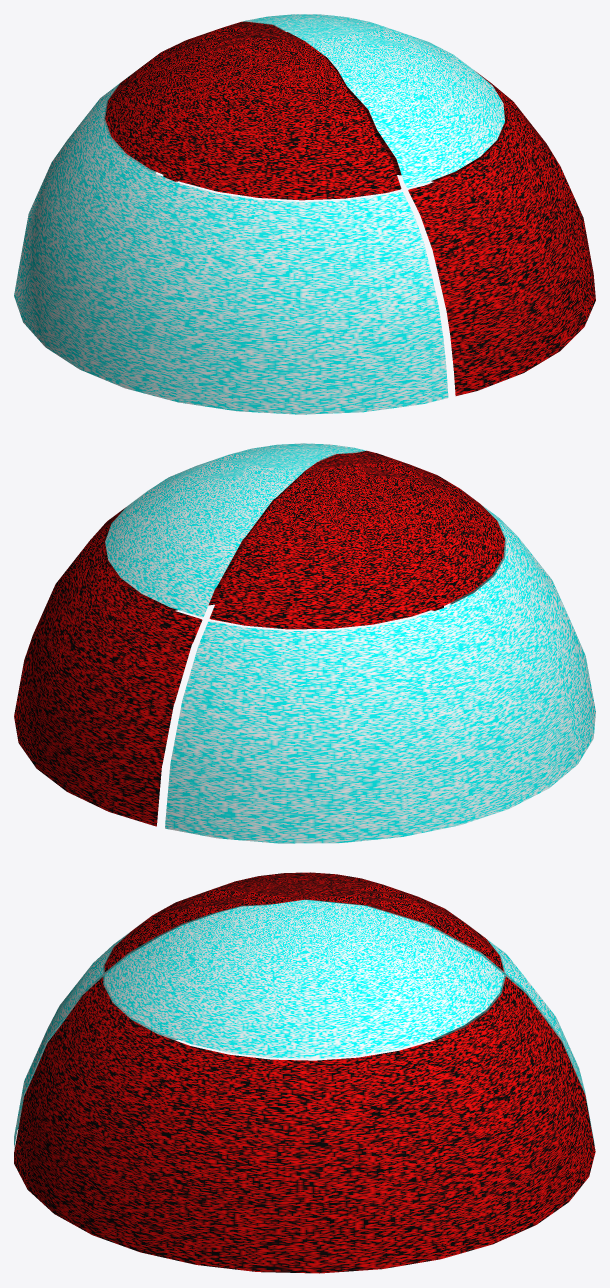
The model's file is SM_HalfSphere_01_GDH.fbx.
3 renders of one model, top to bottom at view 1: azimuth 30°, elevation 25°; view 2: azimuth 150°, elevation 25°; view 3: azimuth 270°, elevation 25°, orthographic.
Visible parts, largest first — view 1: SM_HalfSphere_01_GDH; view 2: SM_HalfSphere_01_GDH; view 3: SM_HalfSphere_01_GDH.
Boxes of the visible parts, box(x1,y1,x2,y2) form: SM_HalfSphere_01_GDH: box(14, 14, 595, 414); SM_HalfSphere_01_GDH: box(14, 443, 595, 843); SM_HalfSphere_01_GDH: box(14, 872, 595, 1273).
Size of the model in its own units: 94.71 by 44.92 by 94.57.
